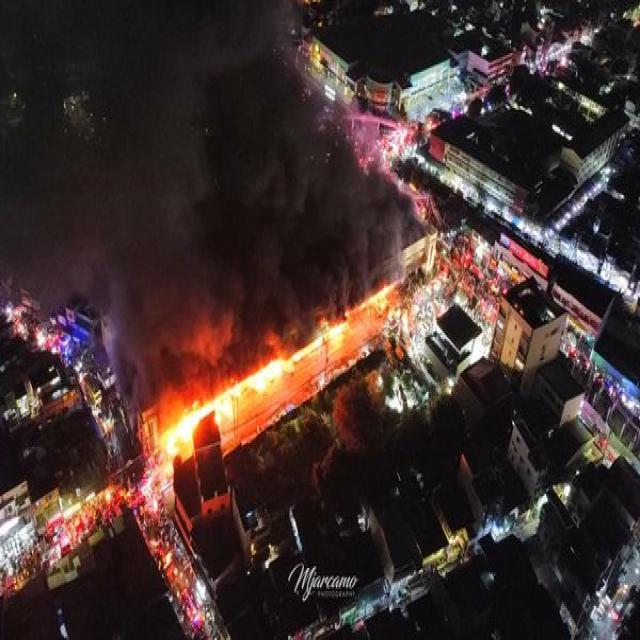Fire: (148, 284, 402, 441)
Smoke: (0, 0, 415, 411)
